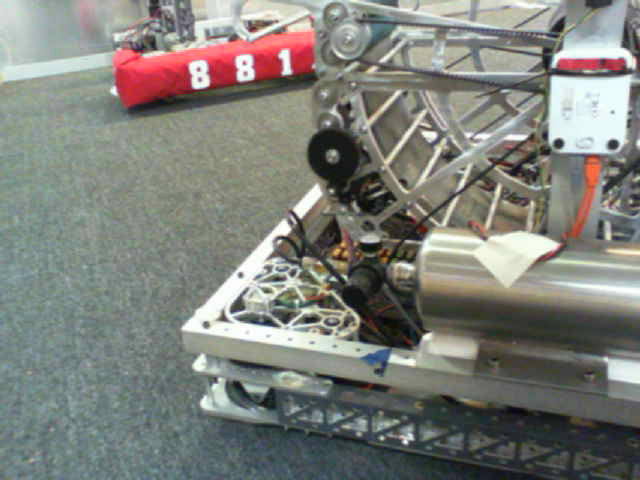Robot: (200, 14, 640, 473), (113, 8, 313, 120)
